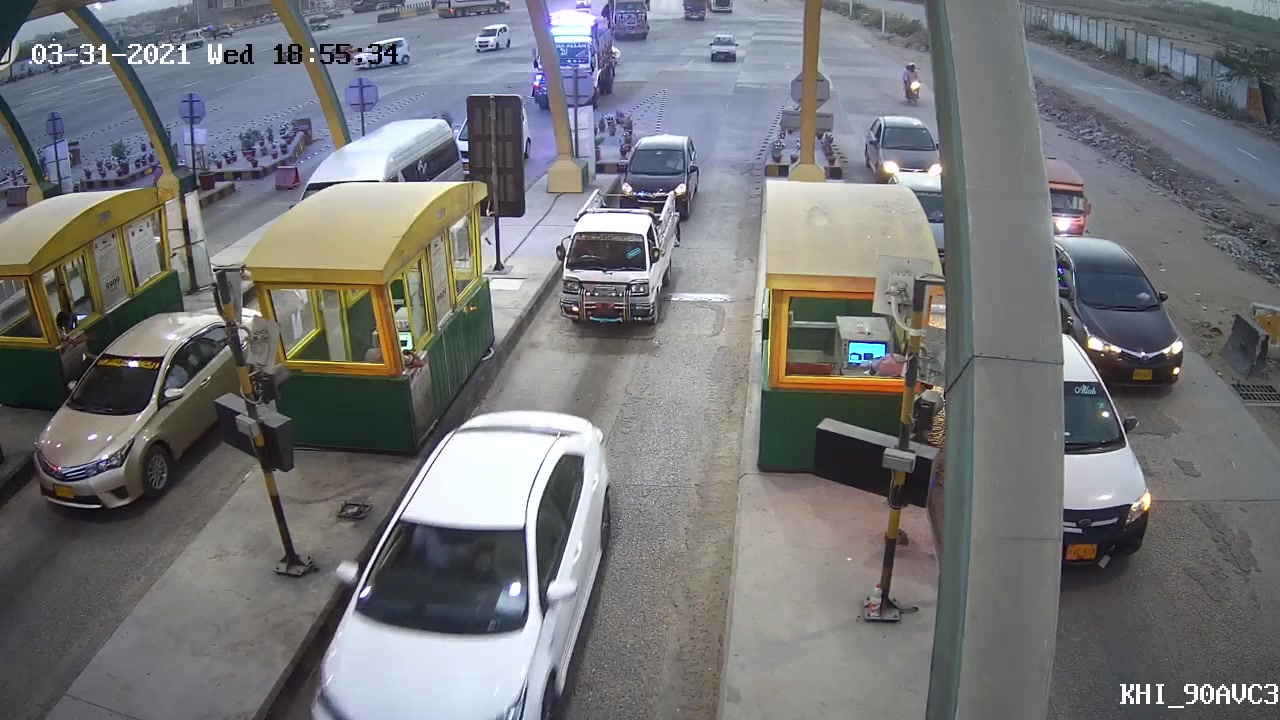F1: (540, 188, 676, 329)
